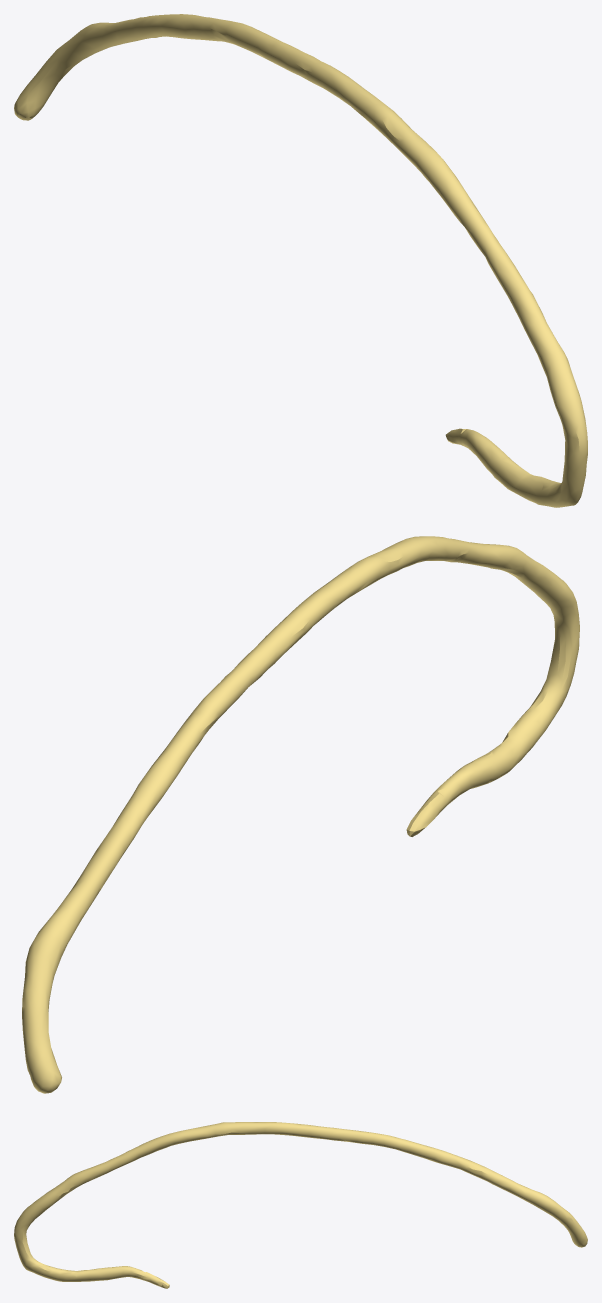
File: fma72943_mm3008m.glb
3 views of the same model, one above another, from view 1: azimuth 30°, elevation 25°; view 2: azimuth 150°, elevation 25°; view 3: azimuth 270°, elevation 25° (orthographic). The views are drawn at different scales.
Parts seen in each view (by area): view 1: FMA72943_MM3008M; view 2: FMA72943_MM3008M; view 3: FMA72943_MM3008M.
Part boxes in pixels (x1=…): FMA72943_MM3008M: x1=14, y1=14, x2=587, y2=507; FMA72943_MM3008M: x1=22, y1=536, x2=579, y2=1093; FMA72943_MM3008M: x1=14, y1=1122, x2=587, y2=1288.
Bounding box in the file's own units: 0.00549 × 0.0251 × 0.0802.
